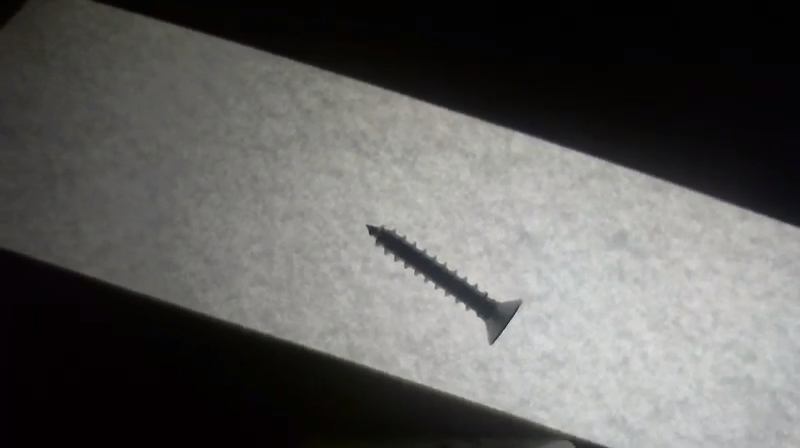S001: (363, 219, 524, 347)
